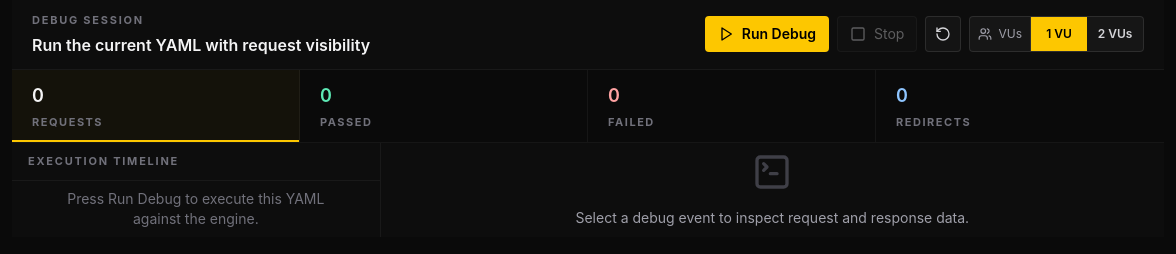
Test case: YAMLDebugSession tree selection sync › does not add think time events to the debug timeline
Click the button "Run Debug" at (767, 34), box [705,16,829,52]
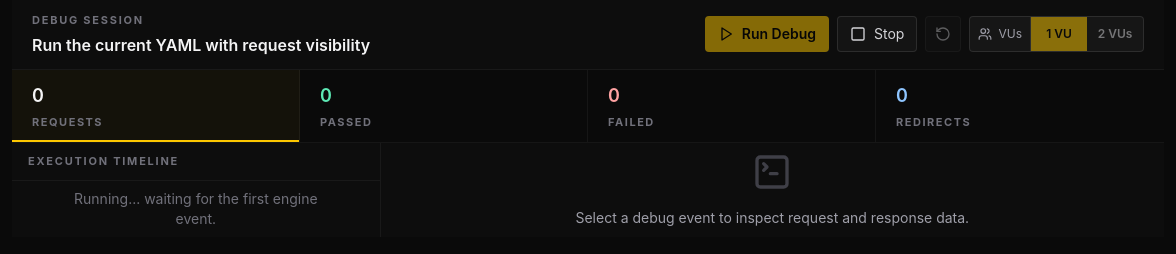
Expected: the text "Running... waiting for the first engine event." is shown, [74,190,318,226]
